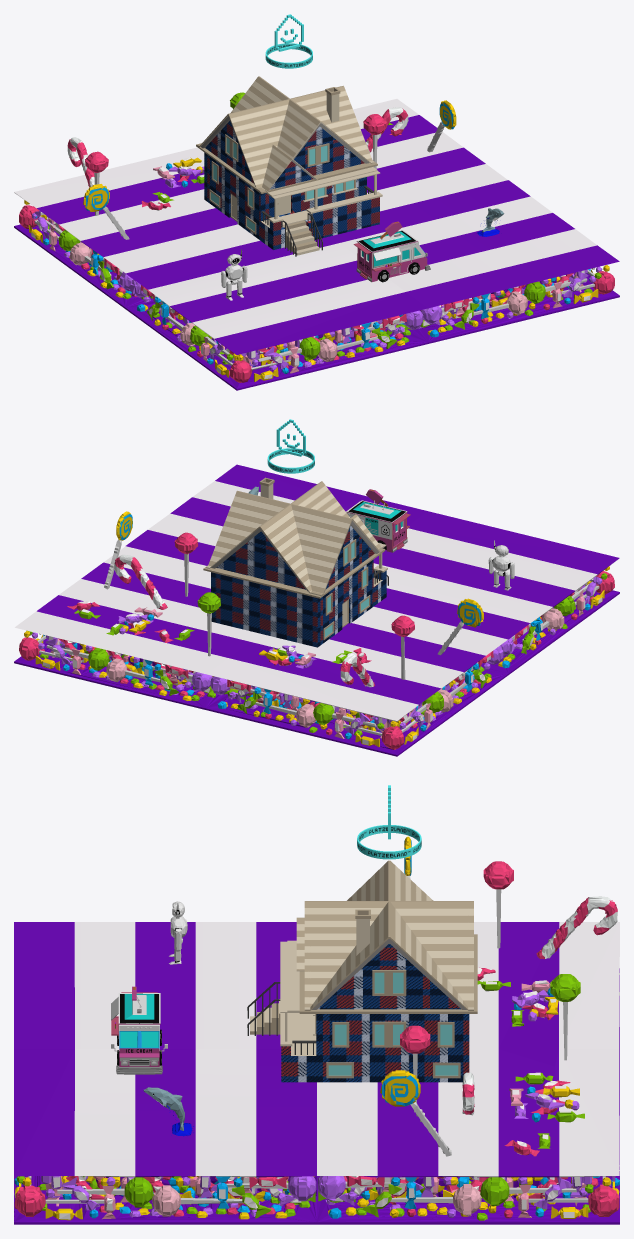
3 views of the same model, one above another, from view 1: azimuth 30°, elevation 25°; view 2: azimuth 150°, elevation 25°; view 3: azimuth 270°, elevation 25° (orthographic). The views are drawn at different scales.
Visible parts, largest first — view 1: TERRAIN_CANDY, Cube.171, VEHICLES_ICE_CREAM_TRUCK, TYPE_PREMIUM, OBJRANDOM_PLATZEEBOT; view 2: TERRAIN_CANDY, Cube.171, VEHICLES_ICE_CREAM_TRUCK, TYPE_PREMIUM, OBJRANDOM_PLATZEEBOT; view 3: TERRAIN_CANDY, Cube.171, VEHICLES_ICE_CREAM_TRUCK, TYPE_PREMIUM, ANIMAL_DELFIN, OBJRANDOM_PLATZEEBOT.
Boxes of the visible parts, box(x1,y1,x2,y2) form: TERRAIN_CANDY: box(14, 92, 619, 390); Cube.171: box(196, 76, 382, 256); VEHICLES_ICE_CREAM_TRUCK: box(353, 221, 430, 282); TYPE_PREMIUM: box(265, 14, 312, 68); OBJRANDOM_PLATZEEBOT: box(221, 249, 247, 300); TERRAIN_CANDY: box(14, 464, 619, 756); Cube.171: box(203, 477, 388, 647); VEHICLES_ICE_CREAM_TRUCK: box(346, 489, 410, 552); TYPE_PREMIUM: box(267, 419, 314, 473); OBJRANDOM_PLATZEEBOT: box(488, 540, 514, 590); TERRAIN_CANDY: box(14, 836, 619, 1224); Cube.171: box(247, 860, 477, 1082); VEHICLES_ICE_CREAM_TRUCK: box(111, 986, 167, 1074); TYPE_PREMIUM: box(357, 785, 421, 859); ANIMAL_DELFIN: box(143, 1087, 193, 1136); OBJRANDOM_PLATZEEBOT: box(169, 901, 187, 964).
Bounding box in the file's own units: 4059 × 2342 × 4000.
Materials: 34 (4 with a texture image).
